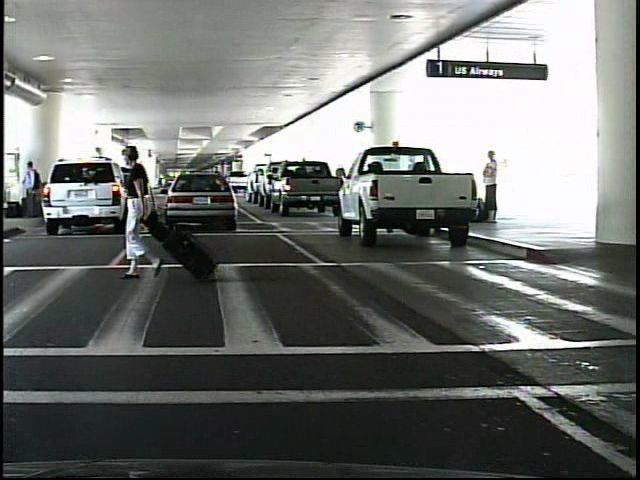person: (118, 147, 180, 284), (475, 152, 511, 225), (23, 158, 42, 220)
